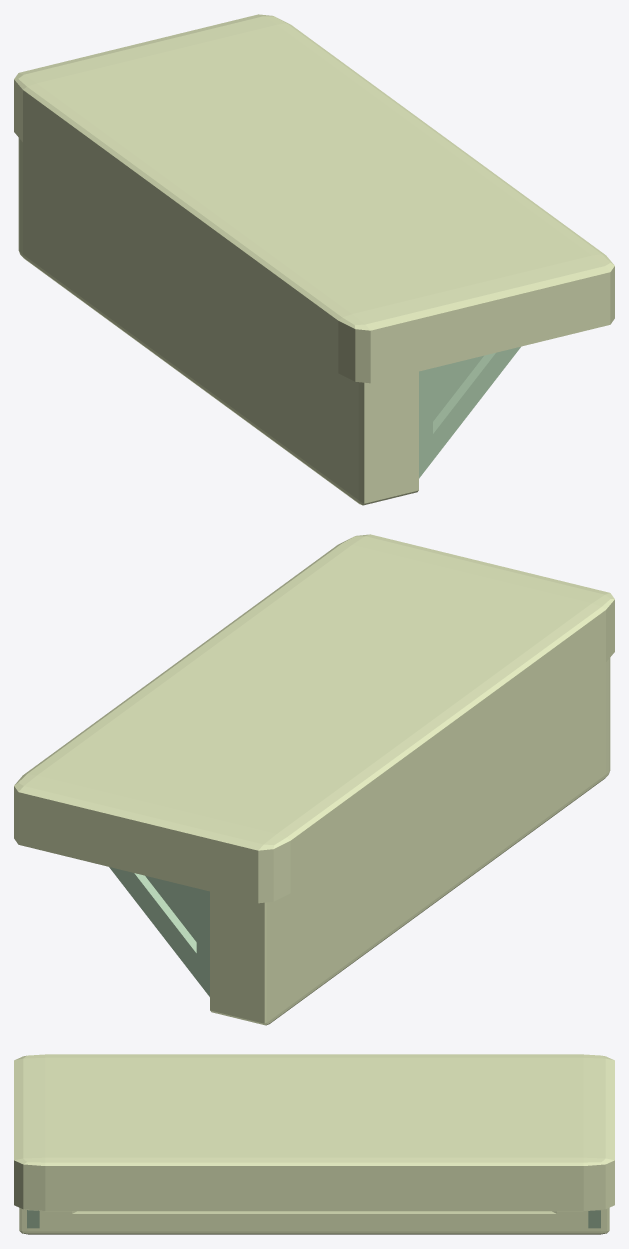
File: MugShelfGreen.fbx
3 views of the same model, one above another, from view 1: azimuth 30°, elevation 25°; view 2: azimuth 150°, elevation 25°; view 3: azimuth 270°, elevation 25° (orthographic). The views are drawn at different scales.
Visible parts, largest first — view 1: Cube, Cube.001; view 2: Cube, Cube.002; view 3: Cube.
Boxes of the visible parts, x1,y1,x2,y2 form: Cube: [14, 14, 614, 505]; Cube.001: [419, 346, 520, 478]; Cube: [14, 534, 614, 1025]; Cube.002: [109, 867, 209, 996]; Cube: [14, 1054, 614, 1234].
Size of the model in its own units: 554 by 359 by 1261.
